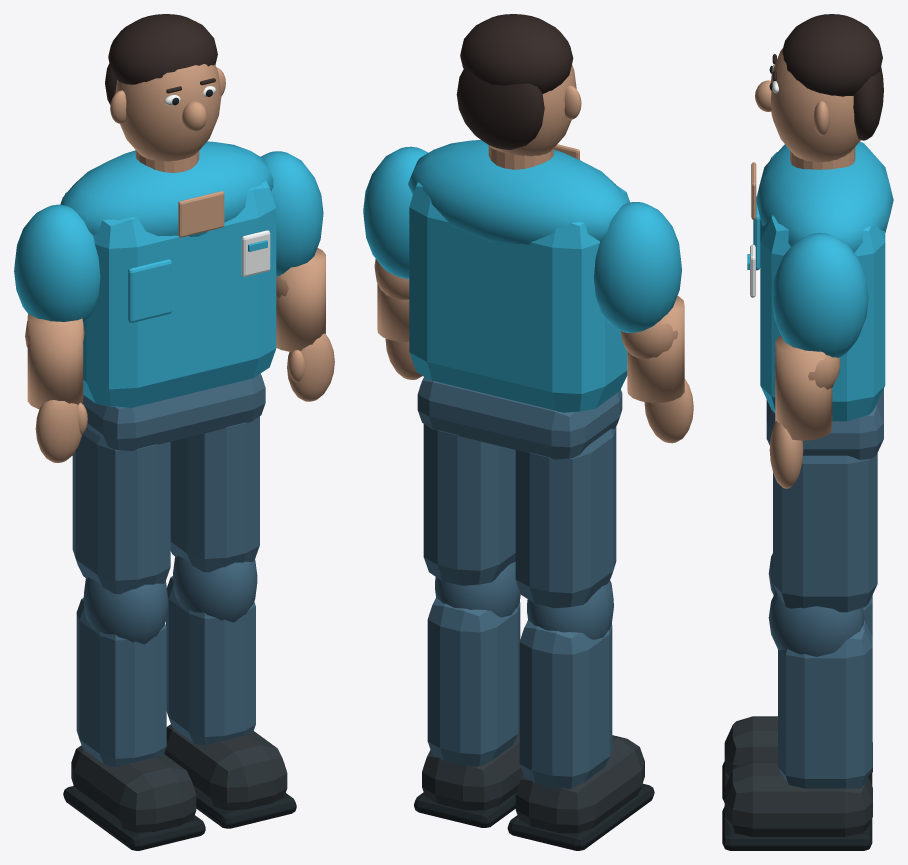
Rendered from lab-person.glb.
The picture shows the model from 3 angles, left to right: view 1: azimuth 30°, elevation 25°; view 2: azimuth 150°, elevation 25°; view 3: azimuth 270°, elevation 25°; orthographic projection. The views are drawn at different scales.
Visible parts, largest first — view 1: Lab_Scrubs, leftLeg_Trousers, rightLeg_Trousers, leftKnee_Trousers, rightKnee_Trousers, Lab_Skin, leftArm_Scrubs, Lab_Trousers, leftKnee_Shoe, leftArm_Skin, rightKnee_Shoe, rightArm_Skin (+5 smaller); view 2: Lab_Scrubs, leftLeg_Trousers, rightLeg_Trousers, leftKnee_Trousers, rightKnee_Trousers, Lab_Hair, Lab_Trousers, leftArm_Scrubs, leftArm_Skin, leftKnee_Shoe, rightArm_Scrubs, rightKnee_Shoe (+4 smaller); view 3: Lab_Scrubs, rightLeg_Trousers, rightKnee_Trousers, rightArm_Scrubs, rightKnee_Shoe, Lab_Hair, Lab_Skin, rightArm_Skin, Lab_Trousers, leftKnee_Shoe, rightKnee_Eye_pupil, Lab_Badge_and_eyes.
Part boxes in pixels (<box>): Lab_Scrubs: <box>60,141,276,407</box>; leftLeg_Trousers: <box>72,427,170,644</box>; rightLeg_Trousers: <box>170,416,259,622</box>; leftKnee_Trousers: <box>76,598,166,767</box>; rightKnee_Trousers: <box>166,576,255,745</box>; Lab_Skin: <box>110,64,225,237</box>; leftArm_Scrubs: <box>14,204,100,322</box>; Lab_Trousers: <box>82,373,265,450</box>; leftKnee_Shoe: <box>71,745,196,832</box>; leftArm_Skin: <box>25,314,87,462</box>; rightKnee_Shoe: <box>164,724,287,810</box>; rightArm_Skin: <box>276,248,334,401</box>; Lab_Scrubs: <box>408,140,630,412</box>; leftLeg_Trousers: <box>515,427,616,639</box>; rightLeg_Trousers: <box>423,424,520,617</box>; leftKnee_Trousers: <box>519,620,612,788</box>; rightKnee_Trousers: <box>427,598,520,766</box>; Lab_Hair: <box>456,14,573,149</box>; Lab_Trousers: <box>417,377,622,459</box>; leftArm_Scrubs: <box>594,202,681,332</box>; leftArm_Skin: <box>620,296,693,443</box>; leftKnee_Shoe: <box>515,735,644,833</box>; rightArm_Scrubs: <box>363,146,428,279</box>; rightKnee_Shoe: <box>422,728,523,810</box>; Lab_Scrubs: <box>747,141,893,421</box>; rightLeg_Trousers: <box>768,453,877,656</box>; rightKnee_Trousers: <box>778,620,872,788</box>; rightArm_Scrubs: <box>771,233,868,357</box>; rightKnee_Shoe: <box>724,761,872,836</box>; Lab_Hair: <box>772,14,883,140</box>; Lab_Skin: <box>751,48,860,219</box>; rightArm_Skin: <box>769,335,840,488</box>; Lab_Trousers: <box>766,389,883,459</box>; leftKnee_Shoe: <box>724,716,872,779</box>; rightKnee_Eye_pupil: <box>722,806,872,850</box>; Lab_Badge_and_eyes: <box>750,64,778,297</box>.
Size of the model in its own units: 0.686 by 1.71 by 0.336.
